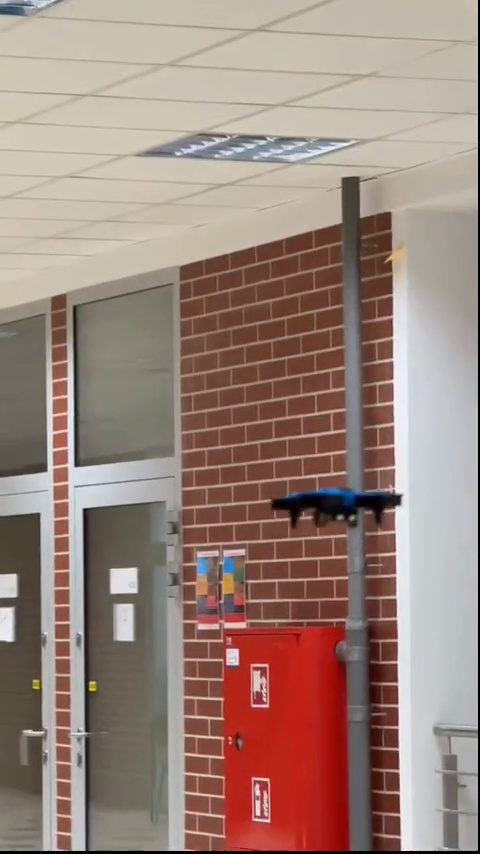drone: (271, 483, 400, 537)
